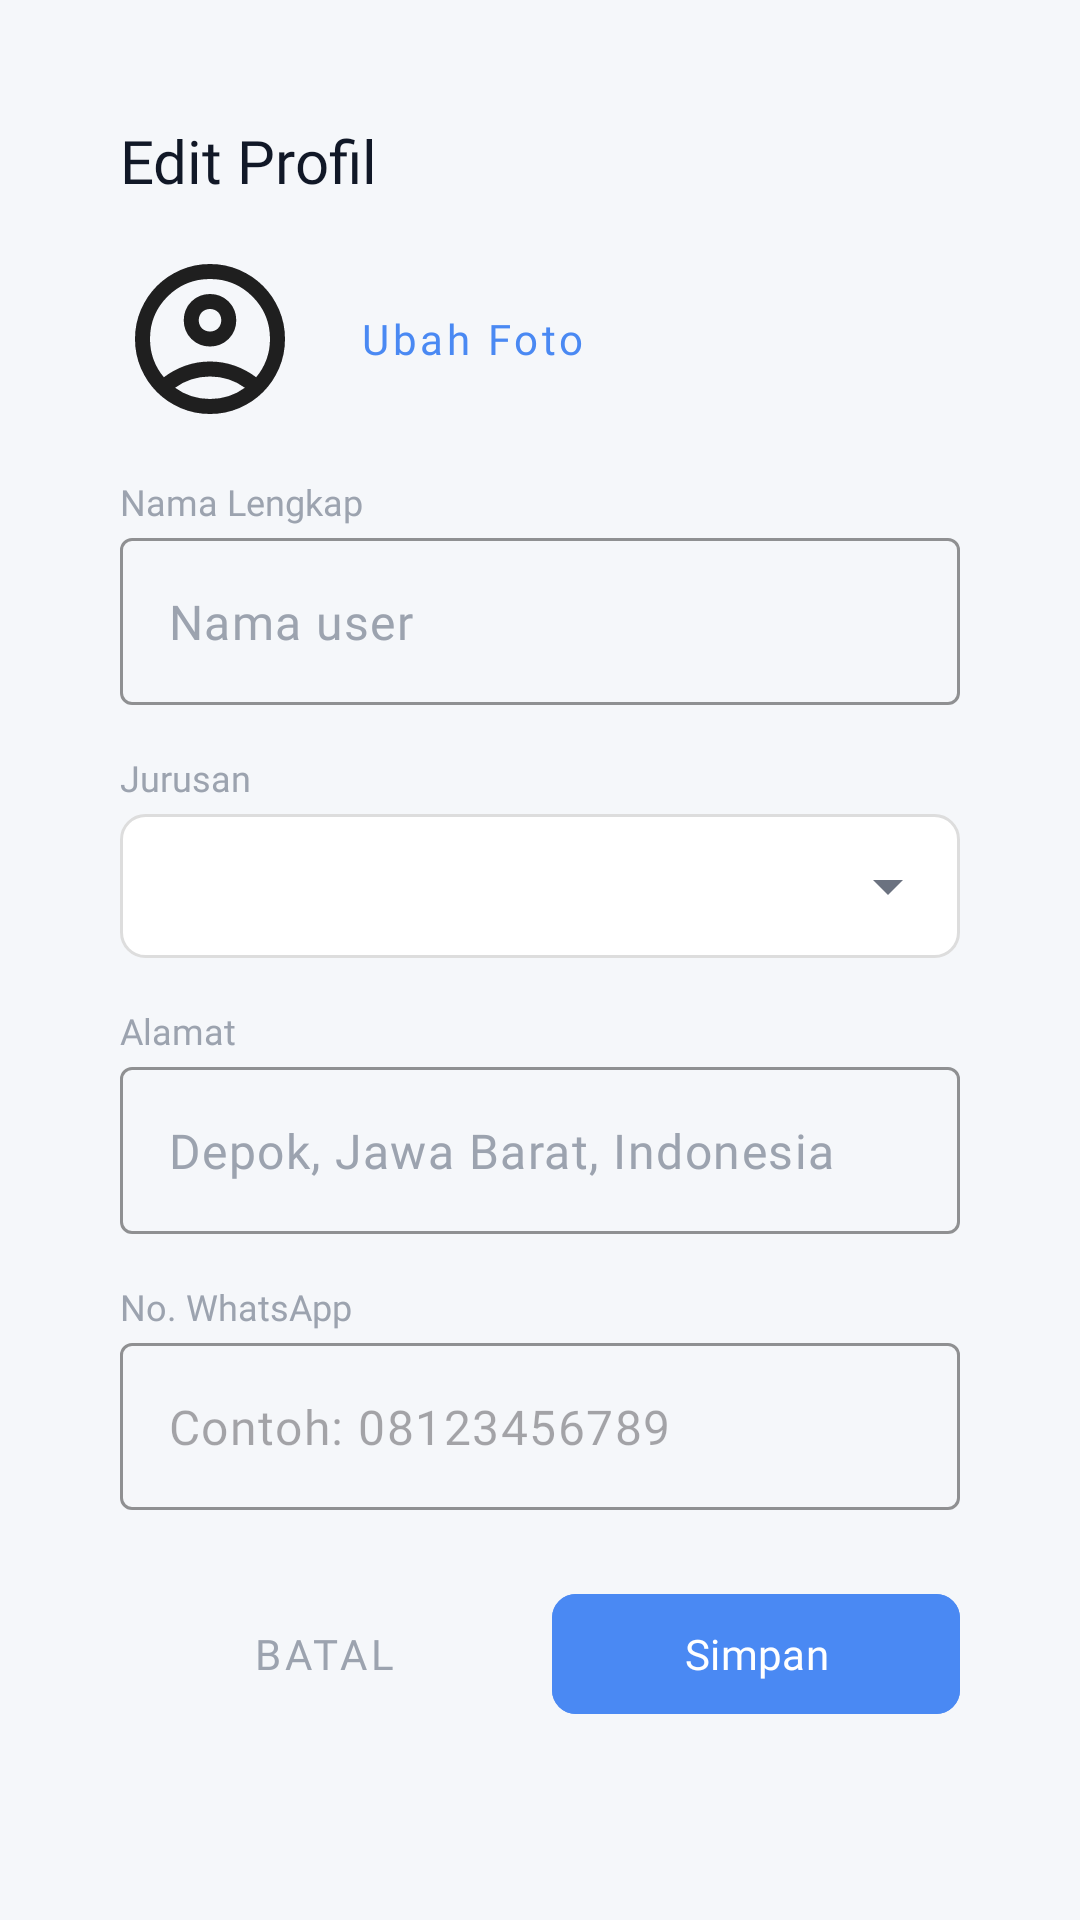

Icon click points for this 1080×1920 phone screenshot, format (x,y):
profile: (210,339)
